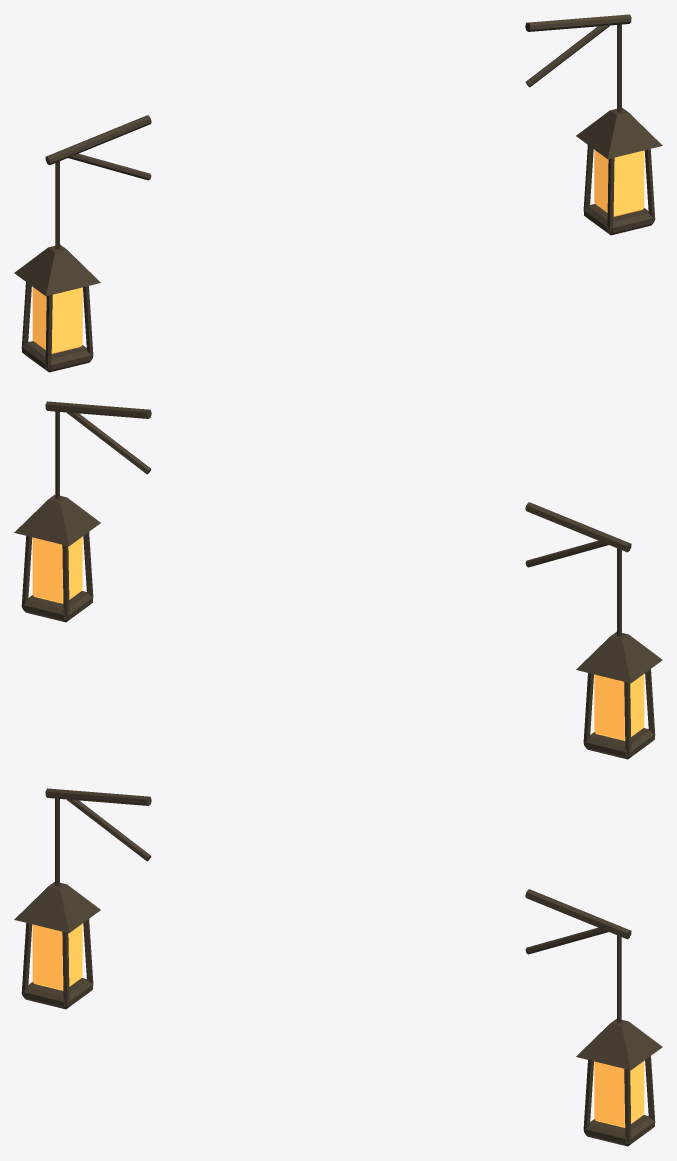
Rendered from lamp-pair.glb.
3 renders of one model, top to bottom at view 1: azimuth 30°, elevation 25°; view 2: azimuth 150°, elevation 25°; view 3: azimuth 330°, elevation 25°, orthographic.
Visible parts, largest first — view 1: lamp-pair; view 2: lamp-pair; view 3: lamp-pair.
Boxes of the visible parts, x1,y1,x2,y2 form: lamp-pair: [14, 14, 662, 372]; lamp-pair: [14, 401, 662, 759]; lamp-pair: [14, 788, 662, 1146].
Bounding box in the file's own units: 5.05 × 1.73 × 0.4525.
